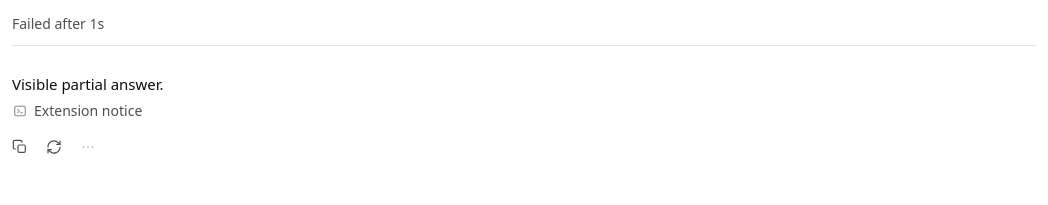
it: message rendering › arbitrary system metadata stays behind disclosure in a failed run
This screenshot has width=1048, height=205.
Expected: the text "Authorization: Bearer custom-metadata-must-not-reach-history" is not shown
Step 1. Click the button "Extension notice" → (88, 110), box [12,99,1036,123]
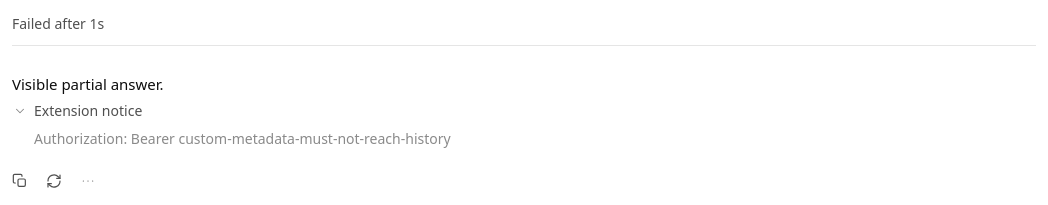
Now the element with class "timeline-row-thought" reads "Authorization: Bearer custom-metadata-must-not-reach-history", box [34,129,451,148]
